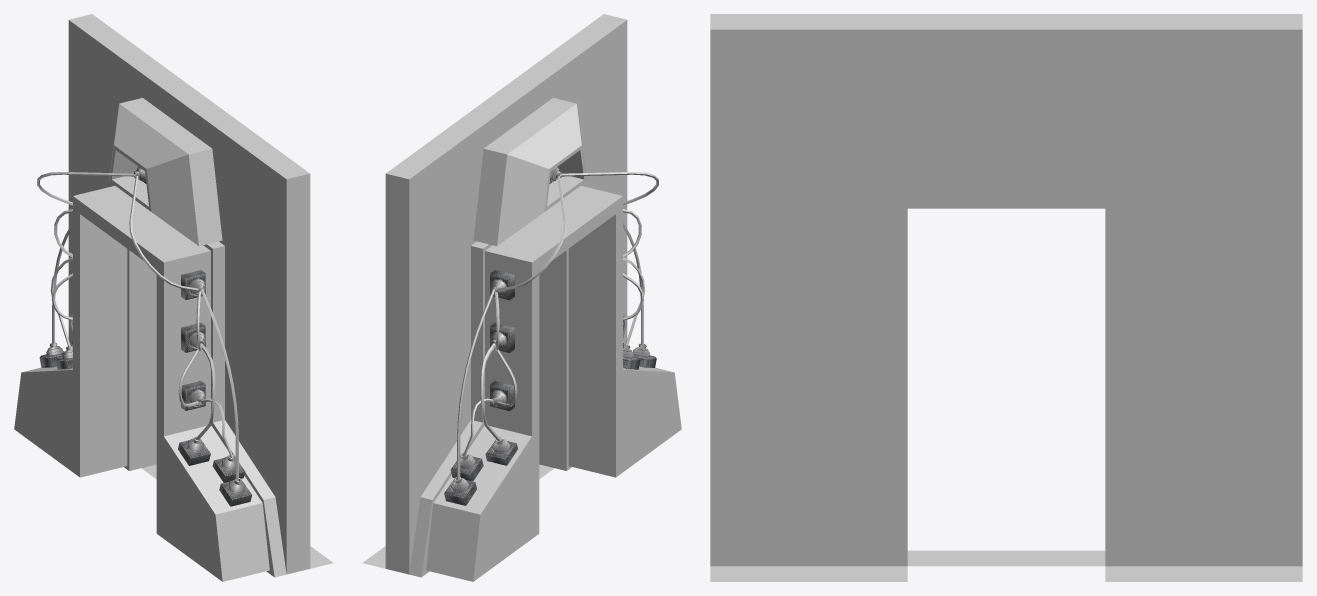
The model's file is Doorway_Magnificent.FBX.
3 views of the same model, side by side, from view 1: azimuth 30°, elevation 25°; view 2: azimuth 150°, elevation 25°; view 3: azimuth 270°, elevation 25° (orthographic). The views are drawn at different scales.
Parts seen in each view (by area): view 1: Box019, Object009, Object010, Plug012, Line004, Line006; view 2: Box019, Object009, Object010, Plug012, Line004, Line006; view 3: Object009, Box019, Object010.
Boxes of the visible parts, box(x1,y1,x2,y2) form: Box019: box(14, 98, 333, 581); Object009: box(68, 14, 310, 574); Object010: box(127, 249, 156, 478); Plug012: box(39, 167, 251, 506); Line004: box(50, 223, 238, 481); Line006: box(37, 172, 202, 406); Box019: box(362, 98, 681, 581); Object009: box(385, 14, 627, 574); Object010: box(539, 249, 568, 478); Plug012: box(444, 167, 656, 505); Line004: box(457, 223, 645, 479); Line006: box(493, 172, 658, 406); Object009: box(710, 14, 1302, 566); Box019: box(710, 566, 1302, 581); Object010: box(907, 550, 1105, 566).
Bounding box in the file's own units: 114 × 315 × 315.
